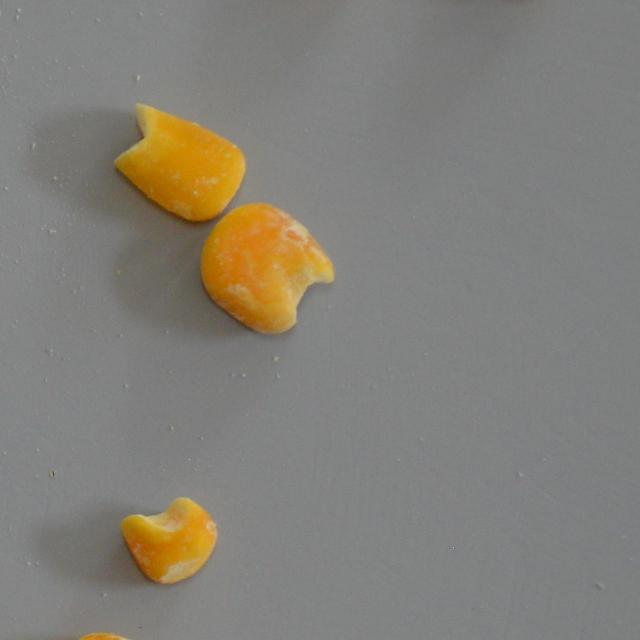no_canjicado: (112, 102, 246, 224)
pelicula: (198, 202, 334, 334), (117, 495, 218, 586)
